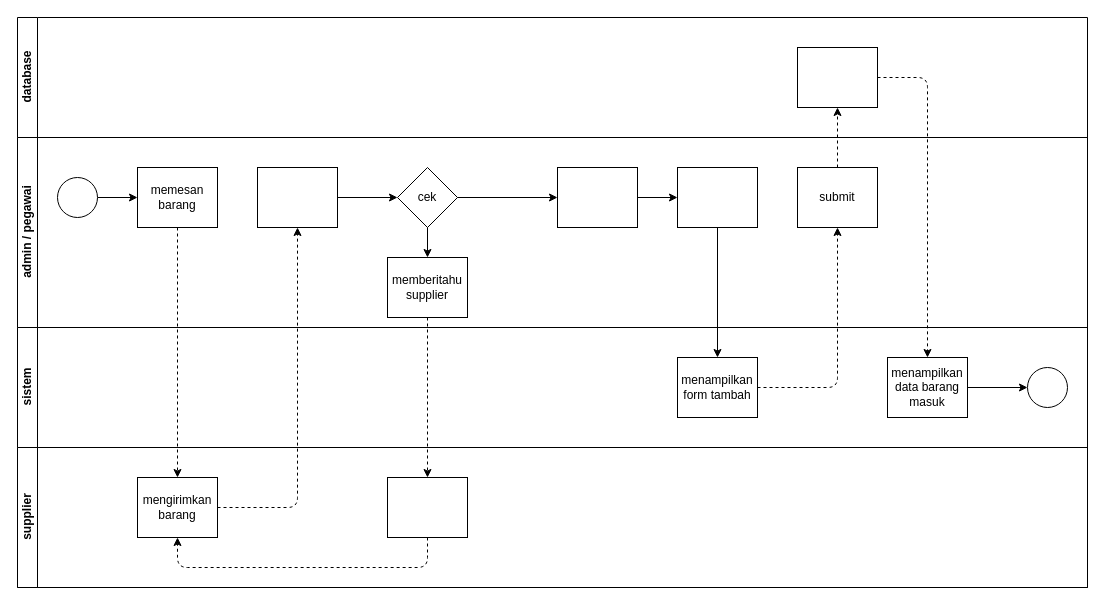
Image size: 1105x605. Some labels were removed from this diagram. The centre of each missing label's shape, as x and y in pixels:
disimpan dalam database: the point at 837,77
menambah data barang: the point at 717,197
menerima barang: the point at 297,197
menerima pesanan salah: the point at 427,507
pilih menu tambah barang masuk: the point at 597,197
